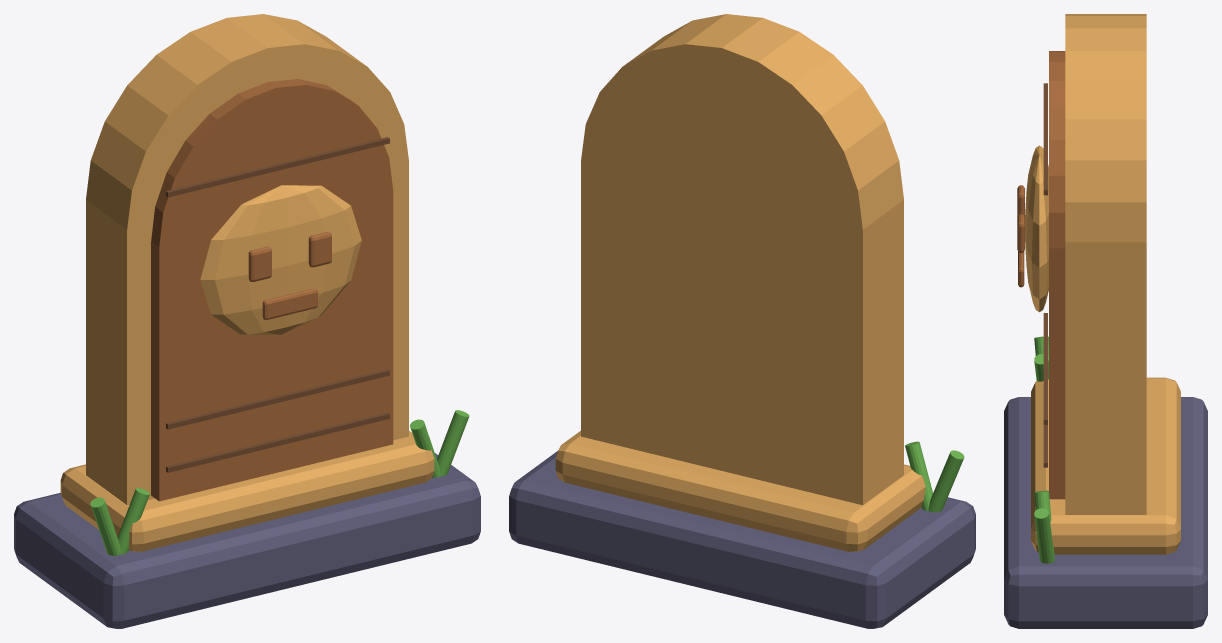
The model's file is Grave_Wooden.glb.
3 views of the same model, side by side, from view 1: azimuth 30°, elevation 25°; view 2: azimuth 150°, elevation 25°; view 3: azimuth 270°, elevation 25° (orthographic).
Visible parts, largest first — view 1: Inset, Arch, Foundation, Foot, ZombieFace, WoodSeam.002, WoodSeam, WoodSeam.001, Grin, Grass.003, Grass, Grass.001 (+2 smaller); view 2: Arch, Foundation, Foot, Grass, Grass.001; view 3: Arch, Foundation, Foot, Inset, ZombieFace, Grass.003, WoodSeam.002, WoodSeam.001, Grass.002, Eye.001.
Boxes of the visible parts, <box> form: Inset: <box>151,79,393,501</box>; Arch: <box>86,14,408,505</box>; Foundation: <box>14,453,480,628</box>; Foot: <box>60,431,434,551</box>; ZombieFace: <box>200,185,361,334</box>; WoodSeam.002: <box>166,137,389,197</box>; WoodSeam: <box>166,412,389,472</box>; WoodSeam.001: <box>166,369,389,429</box>; Grin: <box>262,288,317,319</box>; Grass.003: <box>437,410,469,476</box>; Grass: <box>90,497,120,555</box>; Grass.001: <box>117,488,149,554</box>; Arch: <box>581,14,903,505</box>; Foundation: <box>509,451,975,628</box>; Foot: <box>555,431,925,551</box>; Grass: <box>928,450,964,512</box>; Grass.001: <box>905,441,932,510</box>; Arch: <box>1065,14,1146,514</box>; Foundation: <box>1004,397,1207,628</box>; Foot: <box>1031,377,1180,554</box>; Inset: <box>1049,51,1065,499</box>; ZombieFace: <box>1025,145,1048,312</box>; Grass.003: <box>1034,508,1054,563</box>; WoodSeam.002: <box>1043,83,1047,195</box>; WoodSeam.001: <box>1043,313,1047,424</box>; Grass.002: <box>1034,490,1054,557</box>; Eye.001: <box>1017,214,1024,252</box>.
Bounding box in the file's own units: 2.01 × 2.65 × 0.95.
